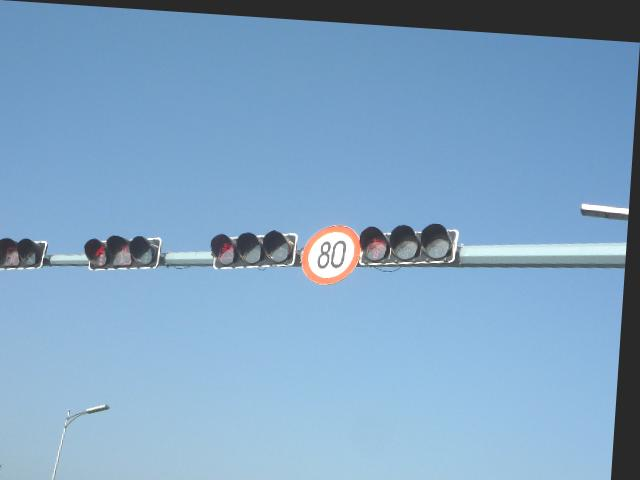limit80: (304, 216, 366, 281)
